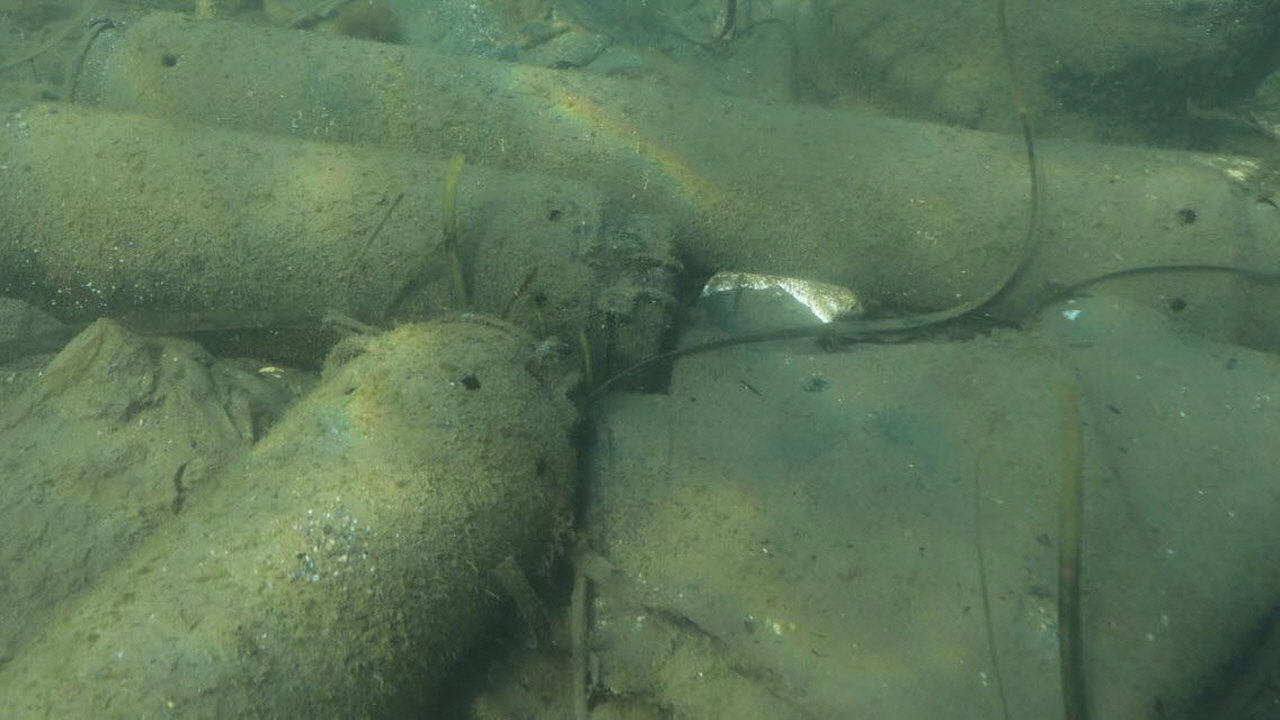eel fish trap: (68, 9, 1279, 350), (0, 314, 581, 720), (0, 98, 685, 380)
